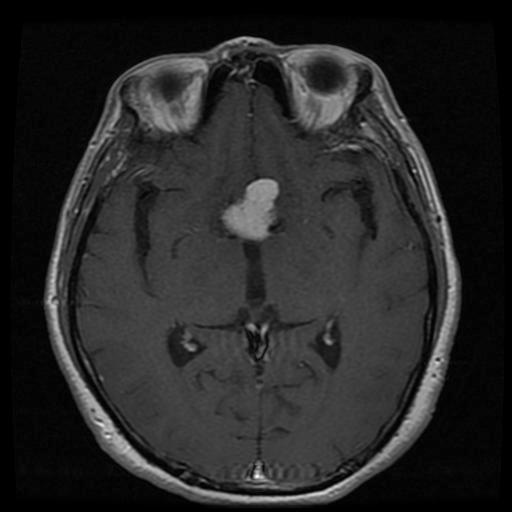Tumour-Meningioma: (210, 175, 293, 256)
